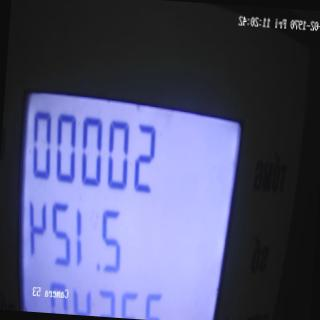screen: (3, 67, 250, 320)
